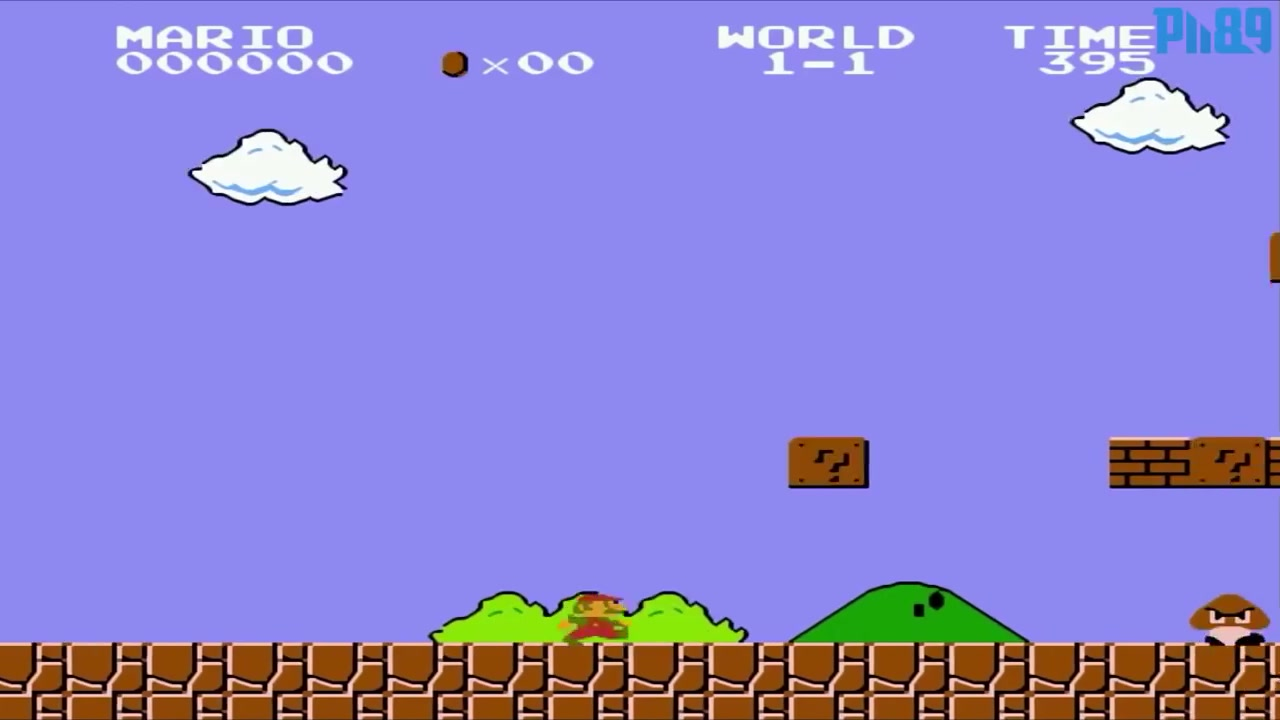mario: (544, 585, 636, 646)
